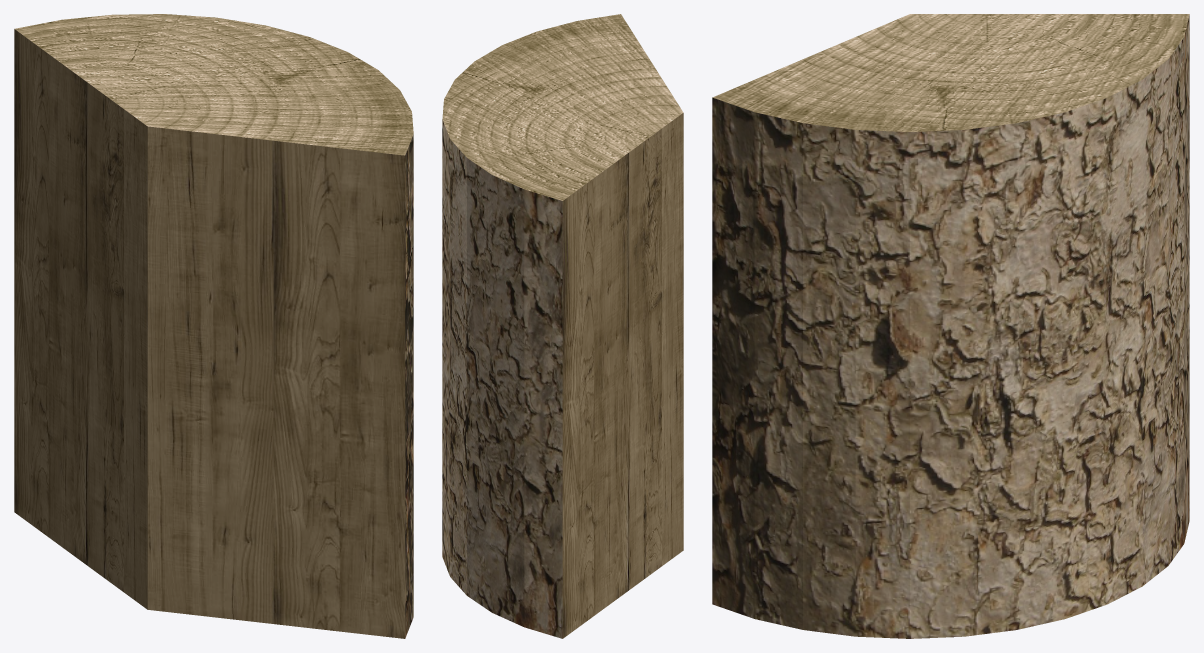
The model's file is FireWood.fbx.
3 views of the same model, side by side, from view 1: azimuth 30°, elevation 25°; view 2: azimuth 150°, elevation 25°; view 3: azimuth 270°, elevation 25° (orthographic). The views are drawn at different scales.
Parts seen in each view (by area): view 1: Cylinder; view 2: Cylinder; view 3: Cylinder.
Part boxes in pixels (<box>): Cylinder: <box>14,14,413,638</box>; Cylinder: <box>442,14,683,638</box>; Cylinder: <box>712,14,1189,638</box>.
Bounding box in the file's own units: 0.1 × 0.2 × 0.1707.
